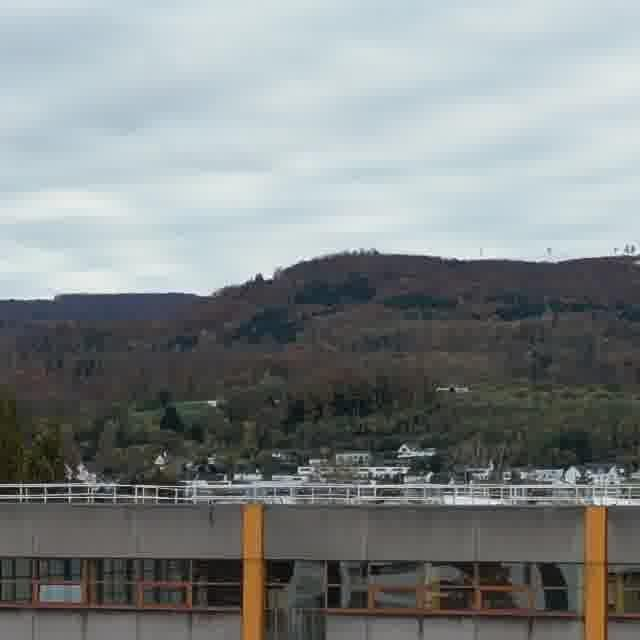Drohne: (437, 385, 469, 391)
